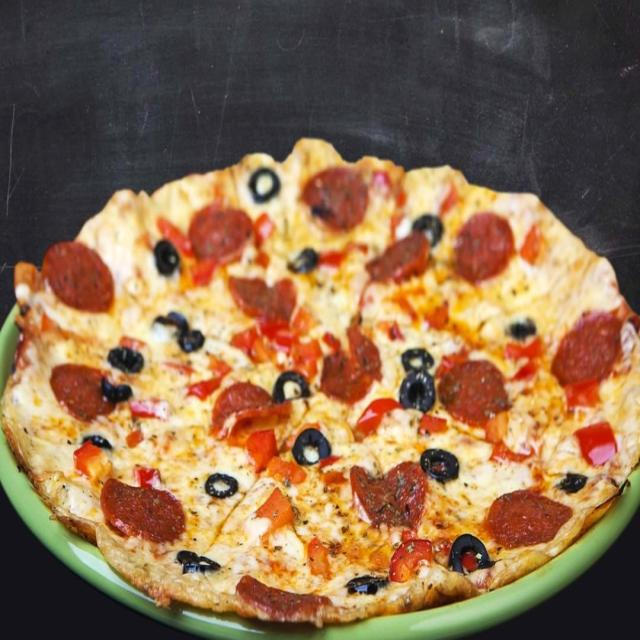black_olives: (401, 338, 435, 415), (160, 307, 206, 362), (447, 528, 490, 579), (272, 366, 314, 412), (294, 427, 335, 470), (176, 540, 224, 575), (421, 445, 461, 485), (108, 338, 144, 378), (250, 164, 282, 206), (100, 373, 135, 409), (348, 570, 389, 600), (414, 211, 444, 251), (285, 240, 319, 275), (205, 468, 239, 501), (154, 236, 180, 274), (505, 312, 534, 338)
pepperoni: (100, 469, 195, 548), (346, 460, 432, 531), (485, 484, 574, 549), (554, 300, 619, 386), (45, 244, 116, 322), (438, 361, 508, 434), (213, 376, 278, 454), (237, 568, 326, 624), (303, 165, 369, 239), (368, 223, 436, 294), (322, 327, 379, 403), (191, 199, 256, 265), (452, 214, 513, 281), (52, 359, 108, 423), (228, 270, 290, 321)
peppers: (156, 209, 213, 287), (249, 428, 303, 488), (72, 438, 117, 490), (250, 488, 294, 537), (388, 532, 431, 582), (572, 415, 612, 468), (284, 312, 318, 372), (509, 340, 546, 393), (128, 398, 166, 447), (360, 390, 396, 440), (307, 534, 341, 584), (232, 324, 270, 365), (132, 455, 166, 496), (189, 364, 224, 401), (562, 382, 602, 413), (493, 435, 525, 469), (427, 299, 454, 330)
pizza: (0, 145, 640, 640)
